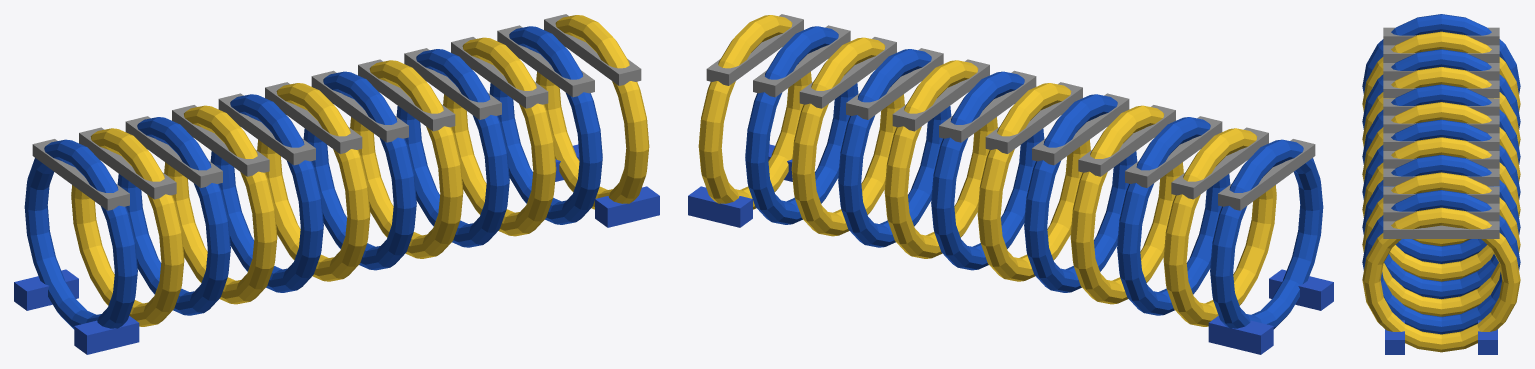
Rendered from dog_tunnel.obj.
3 views of the same model, side by side, from view 1: azimuth 30°, elevation 25°; view 2: azimuth 150°, elevation 25°; view 3: azimuth 270°, elevation 25° (orthographic). The views are drawn at different scales.
Parts seen in each view (by area): view 1: tunnel_segment_1, tunnel_segment_2, tunnel_segment_6, tunnel_segment_10, tunnel_segment_8, tunnel_segment_4, tunnel_segment_5, tunnel_segment_3, tunnel_segment_7, tunnel_segment_11, tunnel_segment_9, tunnel_segment_12 (+15 smaller); view 2: tunnel_segment_1, tunnel_segment_2, tunnel_segment_6, tunnel_segment_10, tunnel_segment_8, tunnel_segment_4, tunnel_segment_5, tunnel_segment_3, tunnel_segment_7, tunnel_segment_11, tunnel_segment_9, tunnel_segment_12 (+15 smaller); view 3: tunnel_segment_12, tunnel_segment_11, tunnel_segment_10, tunnel_segment_9, tunnel_segment_8, tunnel_segment_7, tunnel_segment_6, tunnel_segment_4, tunnel_segment_1, tunnel_segment_2, tunnel_segment_3, tunnel_segment_5 (+14 smaller).
Boxes of the visible parts, x1=… form: tunnel_segment_1: x1=24, y1=139, x2=137, y2=329; tunnel_segment_2: x1=71, y1=128, x2=184, y2=326; tunnel_segment_6: x1=257, y1=83, x2=370, y2=281; tunnel_segment_10: x1=443, y1=37, x2=556, y2=236; tunnel_segment_8: x1=350, y1=60, x2=463, y2=258; tunnel_segment_4: x1=164, y1=105, x2=277, y2=304; tunnel_segment_5: x1=210, y1=94, x2=323, y2=292; tunnel_segment_3: x1=117, y1=117, x2=230, y2=315; tunnel_segment_7: x1=303, y1=71, x2=416, y2=270; tunnel_segment_11: x1=489, y1=26, x2=602, y2=224; tunnel_segment_9: x1=396, y1=49, x2=509, y2=247; tunnel_segment_12: x1=536, y1=15, x2=649, y2=209; tunnel_segment_1: x1=1210, y1=139, x2=1323, y2=329; tunnel_segment_2: x1=1163, y1=128, x2=1276, y2=326; tunnel_segment_6: x1=977, y1=83, x2=1090, y2=281; tunnel_segment_10: x1=791, y1=37, x2=904, y2=236; tunnel_segment_8: x1=884, y1=60, x2=997, y2=258; tunnel_segment_4: x1=1070, y1=105, x2=1183, y2=304; tunnel_segment_5: x1=1024, y1=94, x2=1137, y2=292; tunnel_segment_3: x1=1117, y1=117, x2=1230, y2=315; tunnel_segment_7: x1=931, y1=71, x2=1044, y2=270; tunnel_segment_11: x1=745, y1=26, x2=858, y2=224; tunnel_segment_9: x1=838, y1=49, x2=951, y2=247; tunnel_segment_12: x1=698, y1=15, x2=811, y2=209; tunnel_segment_12: x1=1362, y1=207, x2=1520, y2=352; tunnel_segment_11: x1=1362, y1=190, x2=1520, y2=334; tunnel_segment_10: x1=1362, y1=172, x2=1520, y2=316; tunnel_segment_9: x1=1362, y1=155, x2=1520, y2=298; tunnel_segment_8: x1=1362, y1=137, x2=1520, y2=281; tunnel_segment_7: x1=1362, y1=119, x2=1520, y2=263; tunnel_segment_6: x1=1362, y1=102, x2=1520, y2=246; tunnel_segment_4: x1=1362, y1=67, x2=1520, y2=147; tunnel_segment_1: x1=1362, y1=14, x2=1520, y2=94; tunnel_segment_2: x1=1362, y1=31, x2=1520, y2=111; tunnel_segment_3: x1=1362, y1=49, x2=1520, y2=129; tunnel_segment_5: x1=1362, y1=84, x2=1520, y2=164.
Size of the model in its own units: 3.08 by 0.95 by 0.95.
